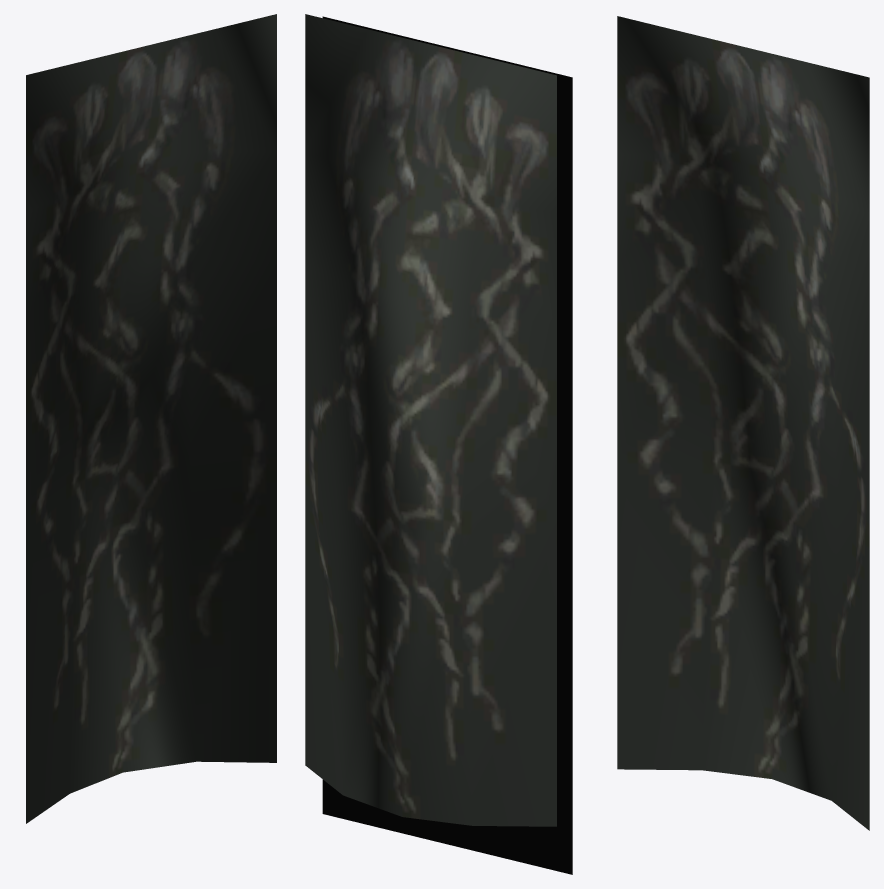
The model's file is INST_TROLLHOLE_CLIMBABLEVINEA.fbx.
3 views of the same model, side by side, from view 1: azimuth 30°, elevation 25°; view 2: azimuth 150°, elevation 25°; view 3: azimuth 330°, elevation 25° (orthographic).
Parts seen in each view (by area): view 1: INST_TROLLHOLE_CLIMBABLEVINEA; view 2: INST_TROLLHOLE_CLIMBABLEVINEA; view 3: INST_TROLLHOLE_CLIMBABLEVINEA.
Part boxes in pixels (x1=…): INST_TROLLHOLE_CLIMBABLEVINEA: x1=26, y1=14, x2=276, y2=823; INST_TROLLHOLE_CLIMBABLEVINEA: x1=305, y1=14, x2=572, y2=874; INST_TROLLHOLE_CLIMBABLEVINEA: x1=617, y1=16, x2=869, y2=830.
Bounding box in the file's own units: 13907 × 39904 × 3097.
2 materials, 2 textured.
